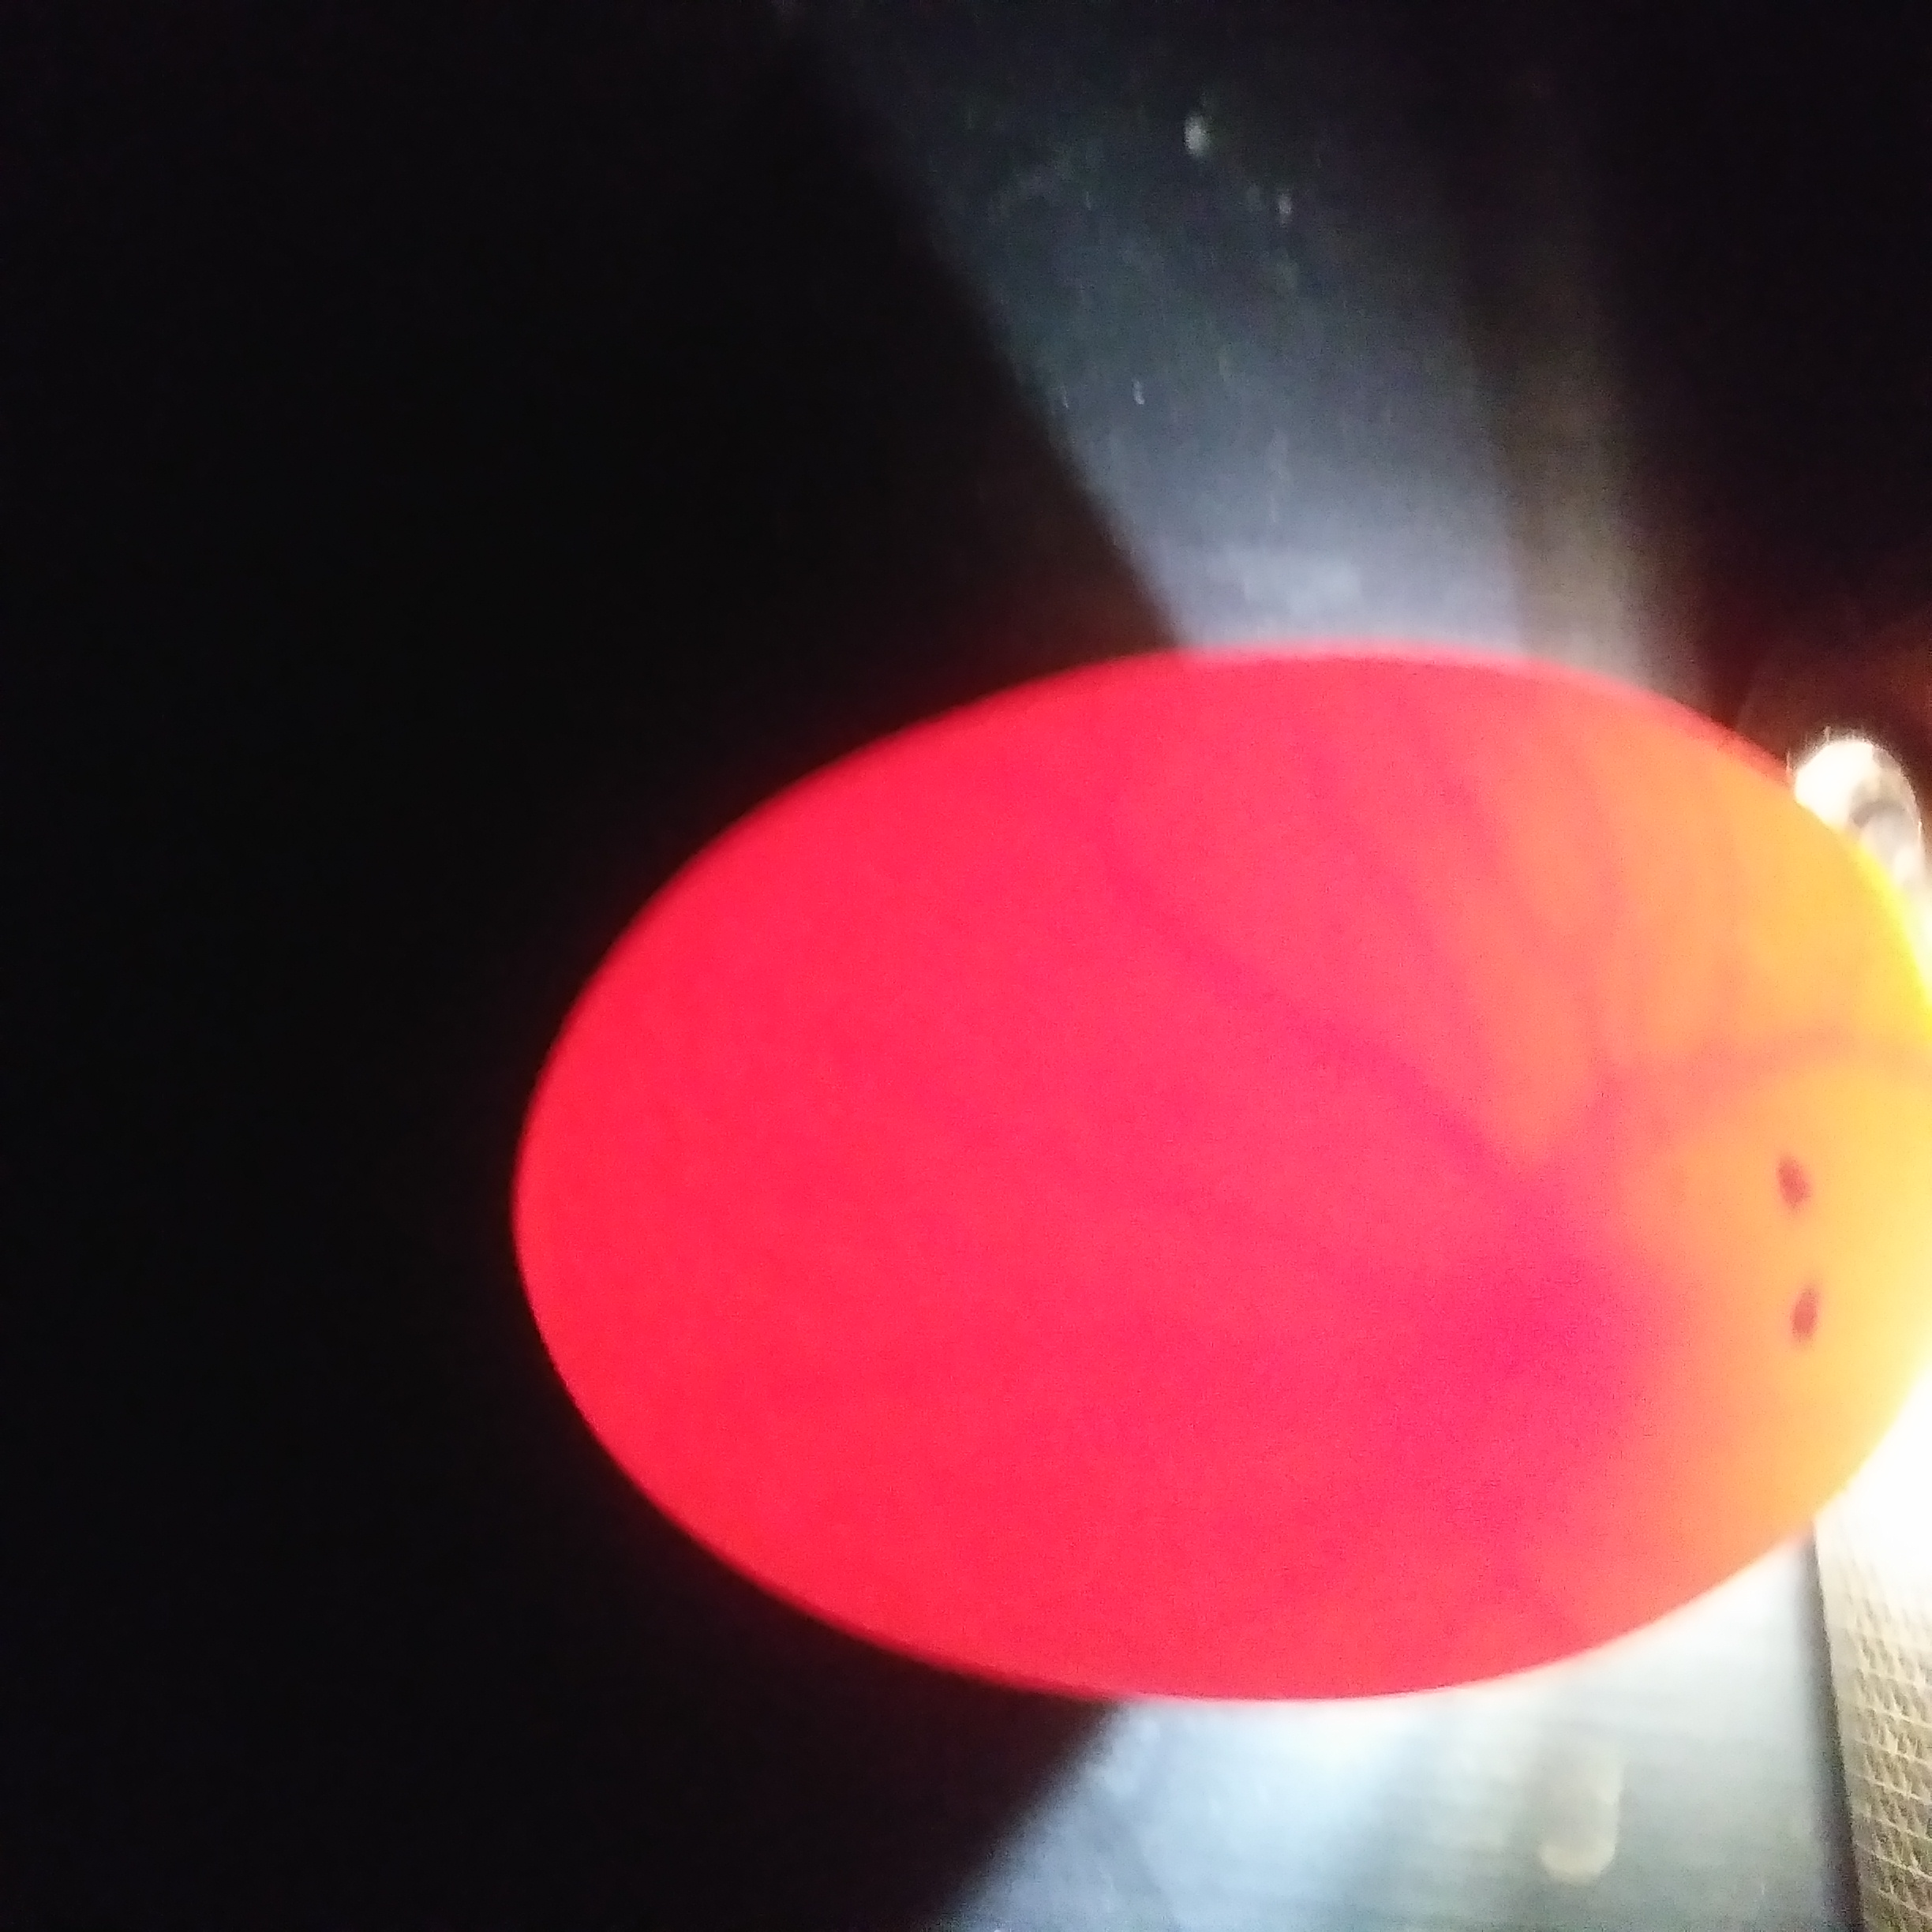bloodcell: (1129, 778, 1829, 1171)
embryo: (1391, 1235, 1645, 1456)
